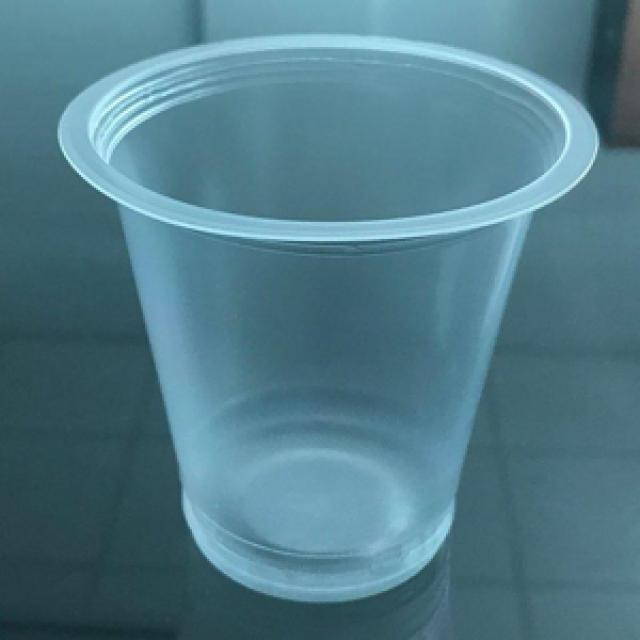plastic cup: (47, 30, 608, 610)
